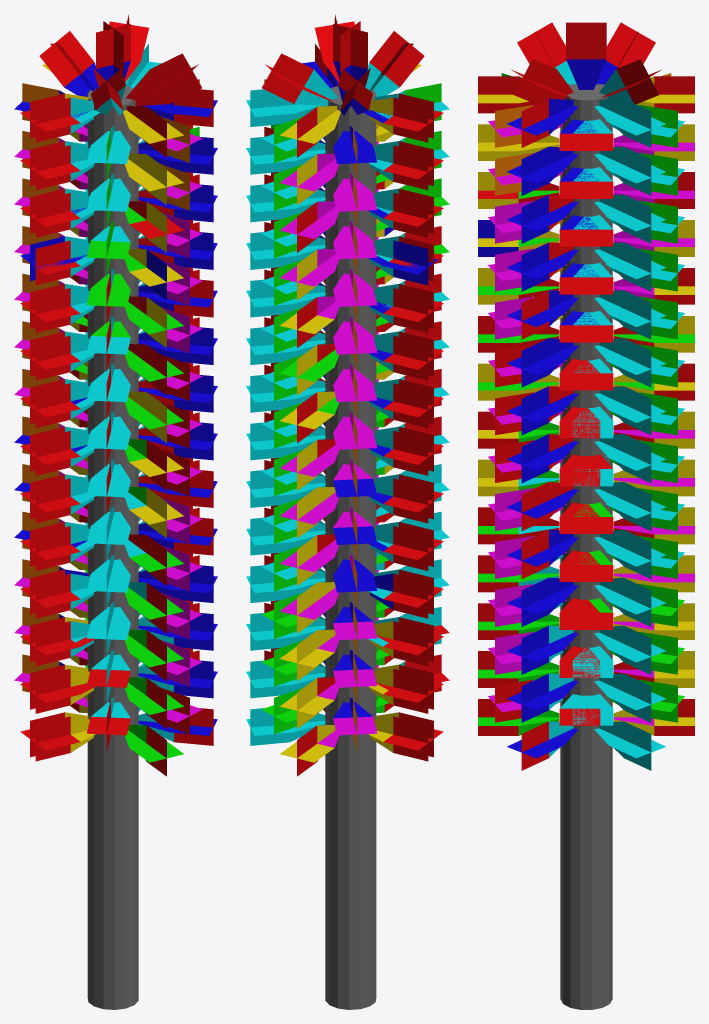
The model's file is Pipi.fbx.
The picture shows the model from 3 angles, left to right: view 1: azimuth 30°, elevation 25°; view 2: azimuth 150°, elevation 25°; view 3: azimuth 270°, elevation 25°; orthographic projection.
Visible parts, largest first — view 1: Meh, Stick; view 2: Meh, Stick; view 3: Meh, Stick.
Part boxes in pixels (bbox=[...]): Meh: bbox=[14, 14, 217, 776]; Stick: bbox=[87, 86, 138, 1009]; Meh: bbox=[246, 14, 449, 776]; Stick: bbox=[325, 86, 376, 1009]; Meh: bbox=[478, 22, 694, 770]; Stick: bbox=[560, 84, 612, 1009].
Bounding box in the file's own units: 111 × 629 × 126.
